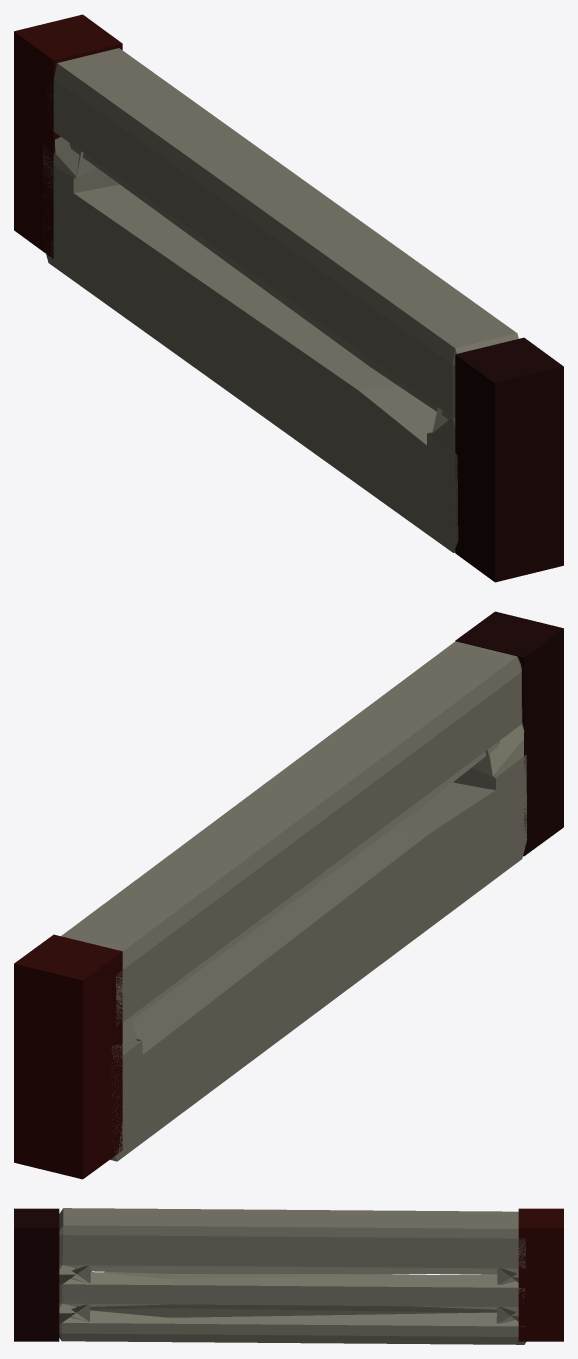
Rendered from airport_barrier.fbx.
The picture shows the model from 3 angles, top to bottom: view 1: azimuth 30°, elevation 25°; view 2: azimuth 150°, elevation 25°; view 3: azimuth 270°, elevation 25°; orthographic projection. The views are drawn at different scales.
Visible parts, largest first — view 1: Cube.003, Cube.005, Cube.002; view 2: Cube.003, Cube.002, Cube.005; view 3: Cube.003, Cube.005, Cube.002.
Part boxes in pixels (x1=…): Cube.003: x1=42, y1=48, x2=518, y2=552; Cube.005: x1=455, y1=337, x2=563, y2=582; Cube.002: x1=14, y1=14, x2=122, y2=258; Cube.003: x1=61, y1=641, x2=526, y2=1161; Cube.002: x1=14, y1=934, x2=122, y2=1179; Cube.005: x1=455, y1=611, x2=563, y2=856; Cube.003: x1=59, y1=1208, x2=526, y2=1344; Cube.005: x1=14, y1=1208, x2=59, y2=1341; Cube.002: x1=518, y1=1208, x2=563, y2=1341.
Size of the model in its own units: 25 by 72.49 by 302.
